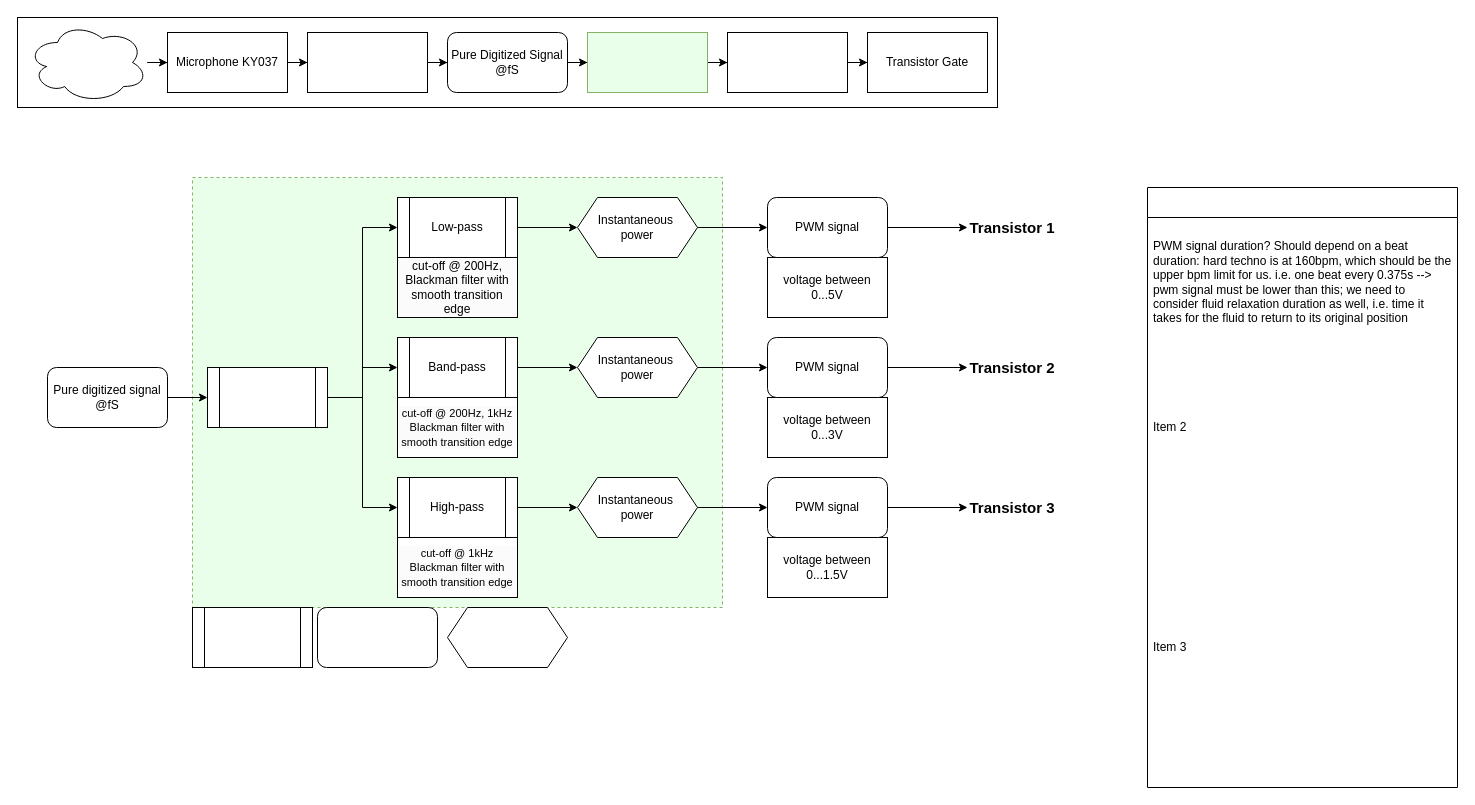
Some shapes in this 1475 by 805 pixel diagram are drawn without their labels. The box of each missing label's shape, as (x1, y1, x2, y2) in pixels:
Acoustic wave: (26, 22, 148, 102)
ADC (Arduino UNO: ATmega328P): (306, 32, 428, 92)
Calculation: (446, 606, 568, 668)
DSP: (586, 32, 708, 92)
Filter: (192, 606, 312, 668)
Median Filter: (206, 366, 328, 428)
Open questions: (1146, 186, 1458, 788)
PWM: (726, 32, 848, 92)
Signal: (316, 606, 438, 668)
